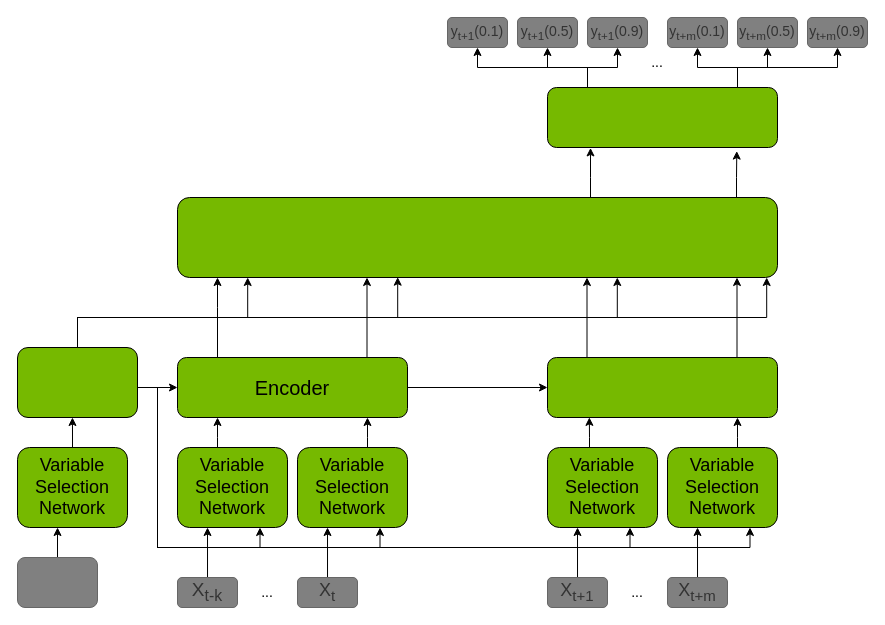
This 885x625 diagram has some shape labels left out. The centre of each missing label's shape, as x and y in pixels:
Decoder: point 662,387
Interpretable Multi-head Attention: point 477,237
Quantle Projection: point 662,117
Static Covariate Encoder: point 77,382
Static Metadata: point 57,582
